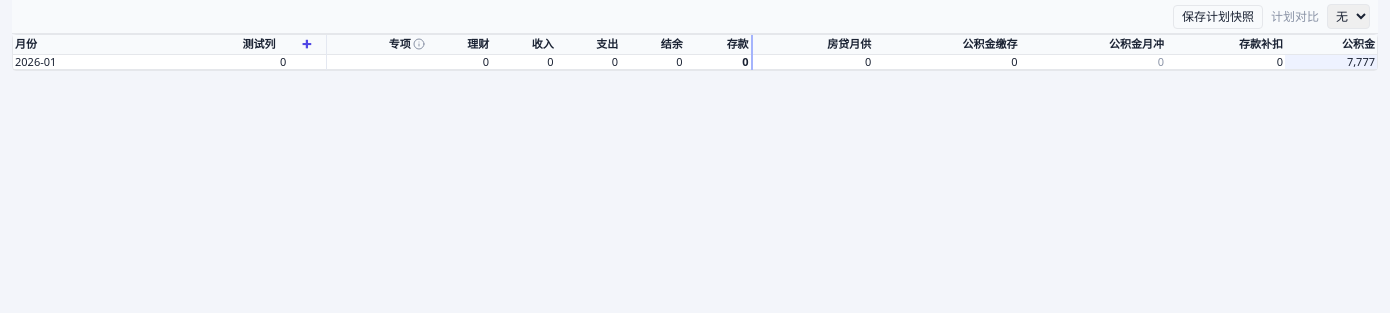
Test: MonthlyTable › 打开公积金小窗时传入该月已修正余额
The width and height of the screenshot is (1390, 313).
Click the cell "7,777" at {"x": 1331, "y": 62}, box [1285,54,1377,69]
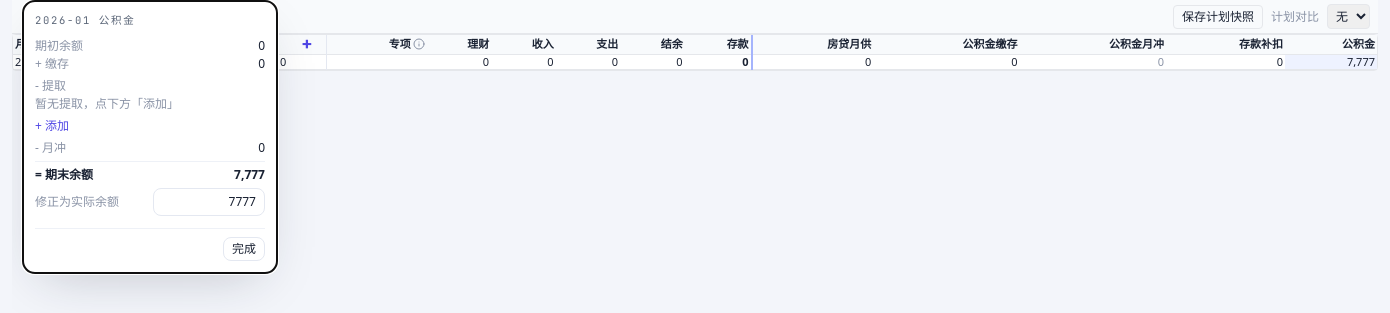
Result: the element that starts with "2026-01 公积金" is shown at [22,0,278,274]
